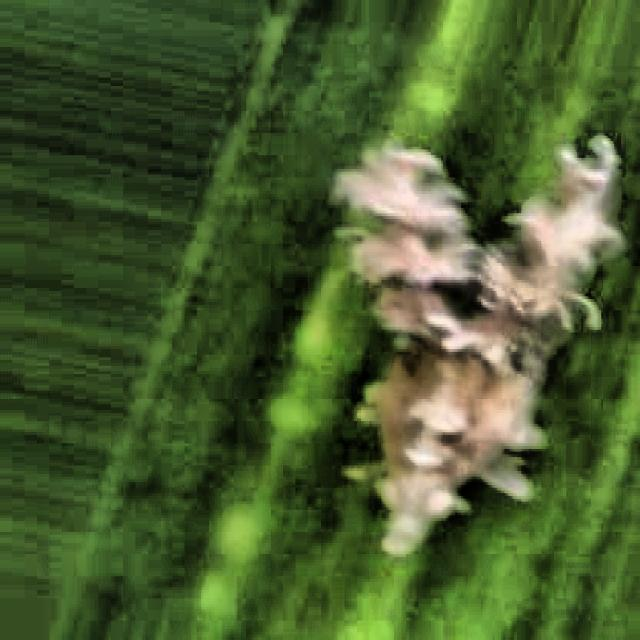Pyrilla-perpusilla: (315, 103, 629, 627)
